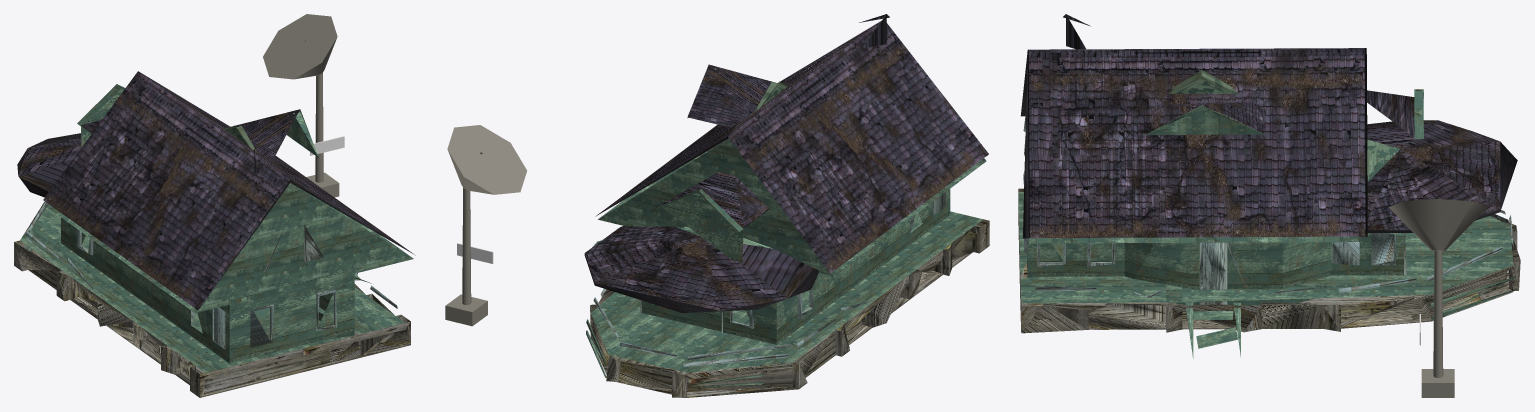
The picture shows the model from 3 angles, left to right: view 1: azimuth 30°, elevation 25°; view 2: azimuth 150°, elevation 25°; view 3: azimuth 270°, elevation 25°; orthographic projection. The views are drawn at different scales.
Parts seen in each view (by area): view 1: dweller_building_lab; view 2: dweller_building_lab; view 3: dweller_building_lab.
Boxes of the visible parts, <box> form: dweller_building_lab: <box>14,14,415,397</box>; dweller_building_lab: <box>445,14,989,397</box>; dweller_building_lab: <box>1018,14,1520,397</box>.
Size of the model in its own units: 15.46 by 9.99 by 18.21.
6 materials, 4 textured.
